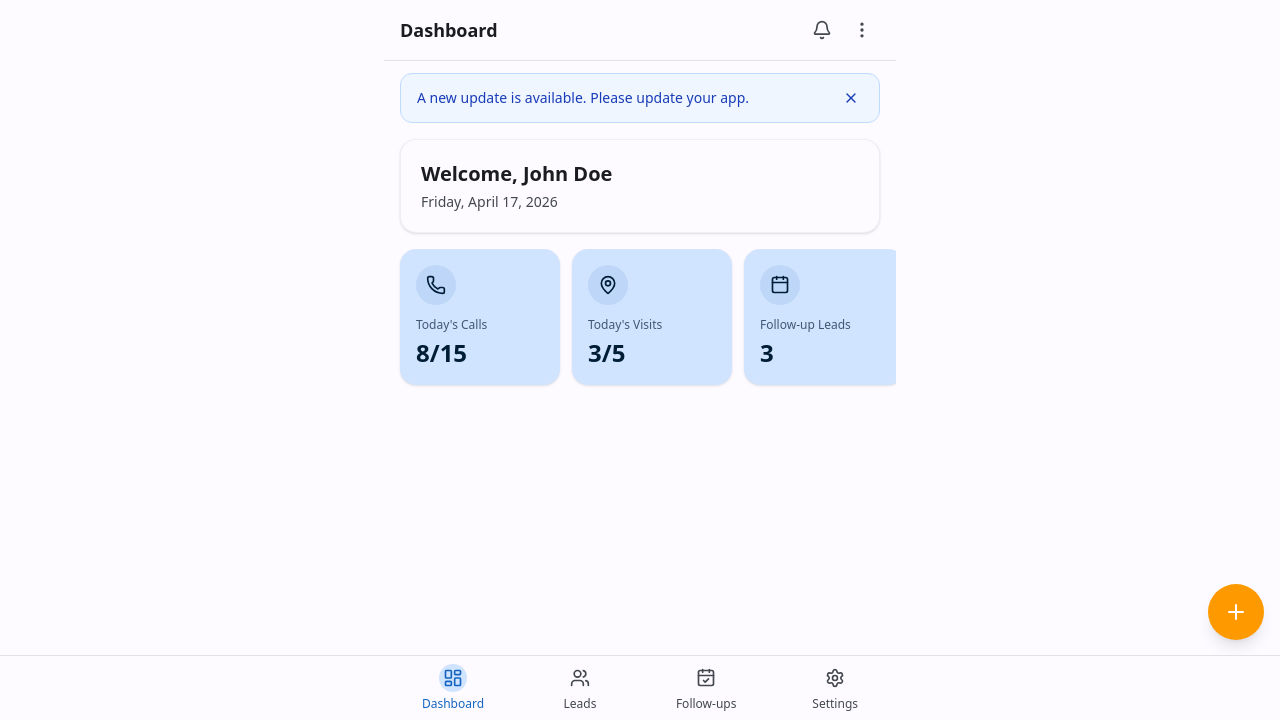
DashboardPage › opens End Shift dialog from options menu
Step 1. Click the button named "More options" → (862, 30), box [844, 12, 880, 48]
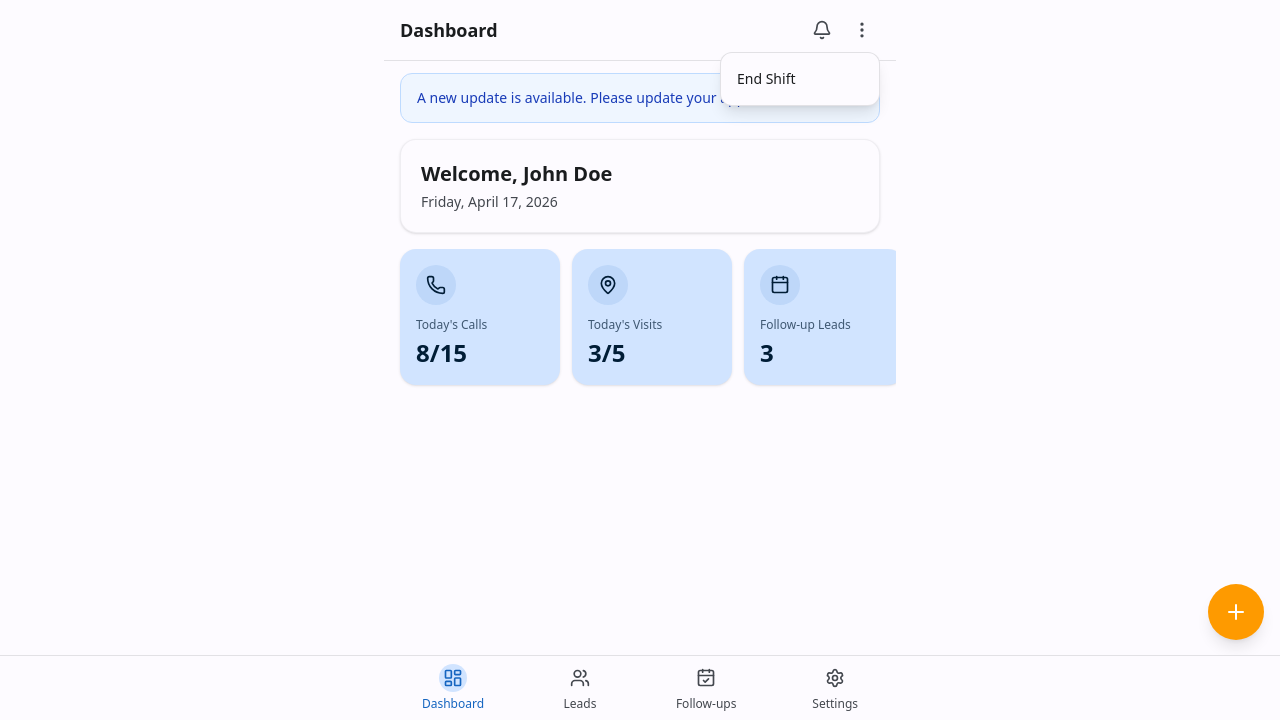
Step 2. Click the button "End Shift" → (800, 79), box [721, 57, 879, 101]
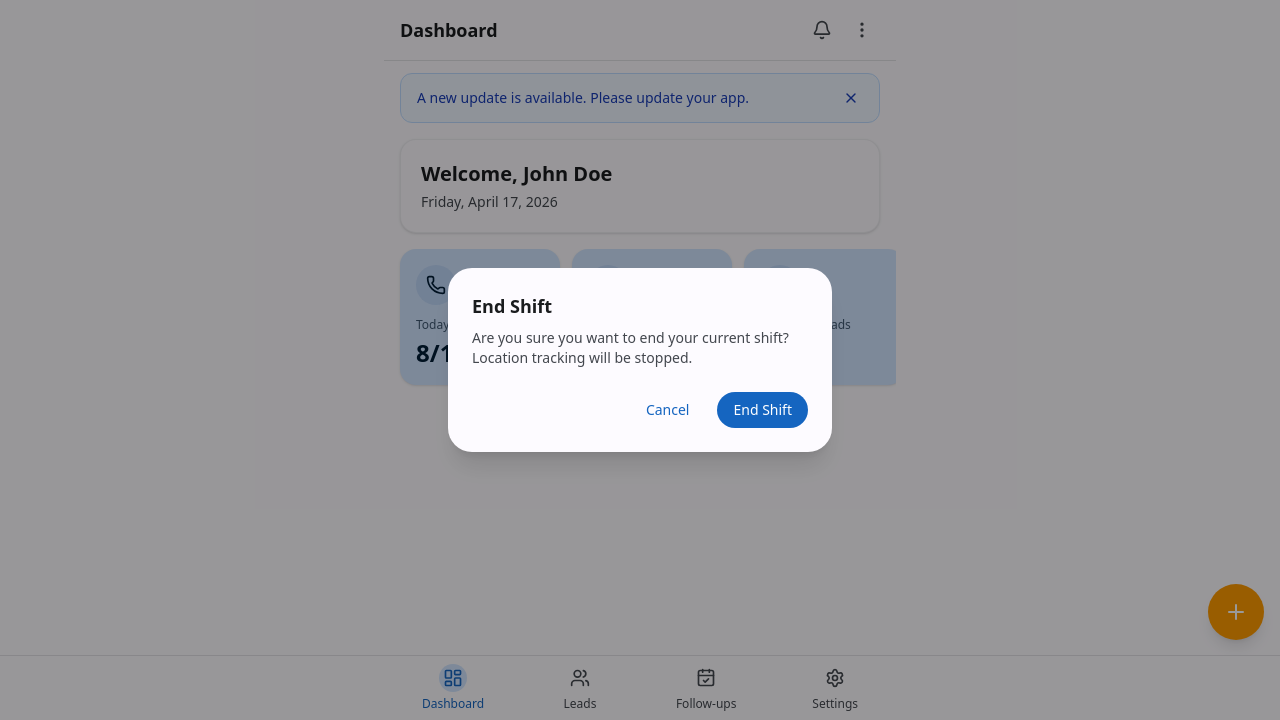
Result: the heading "End Shift" is shown at [472, 294, 552, 318]
